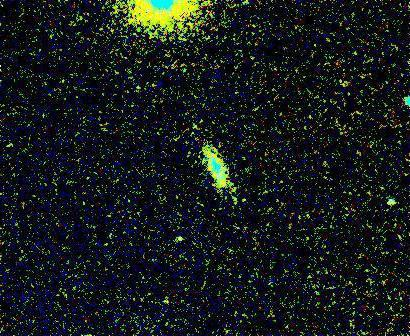star: (167, 223, 197, 253)
